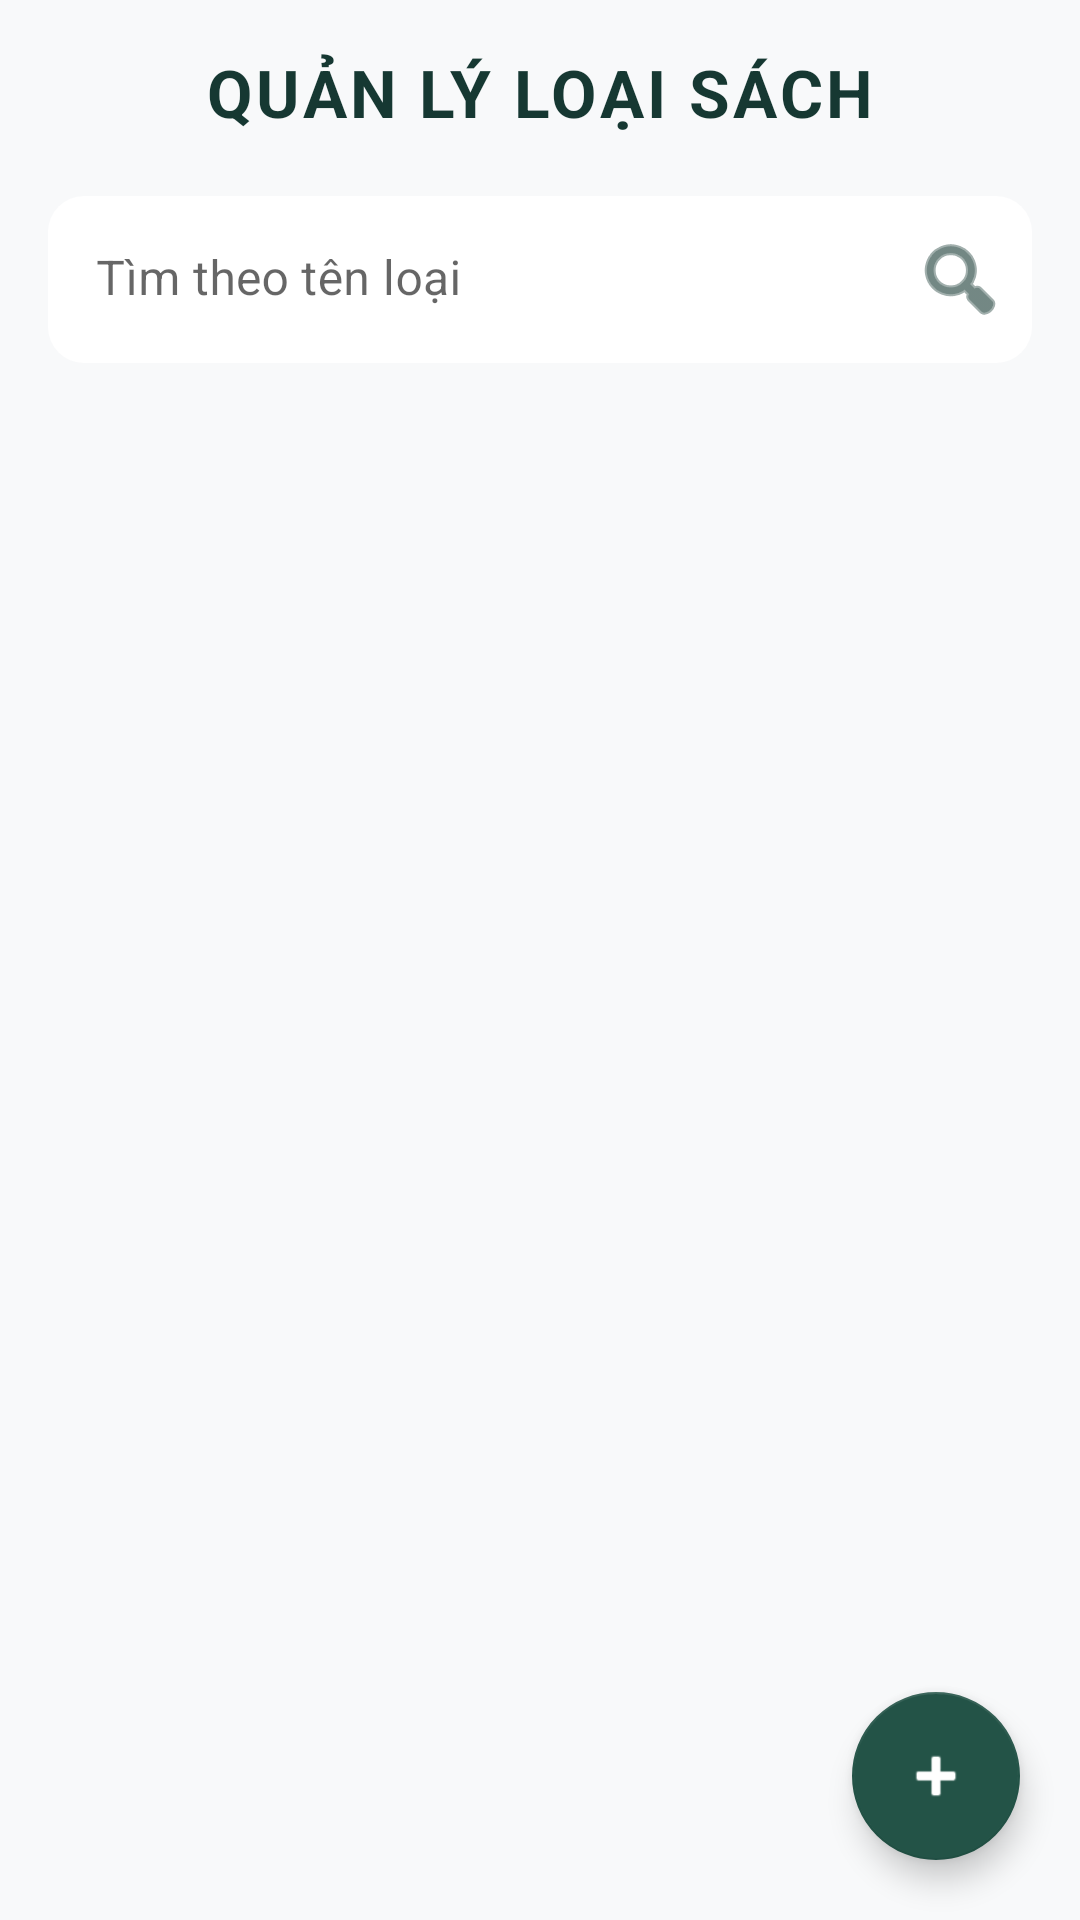

Icon click points for this 1080px×1920px phone screenshot, format (x,y):
Thêm loại mới: (936,1776)
